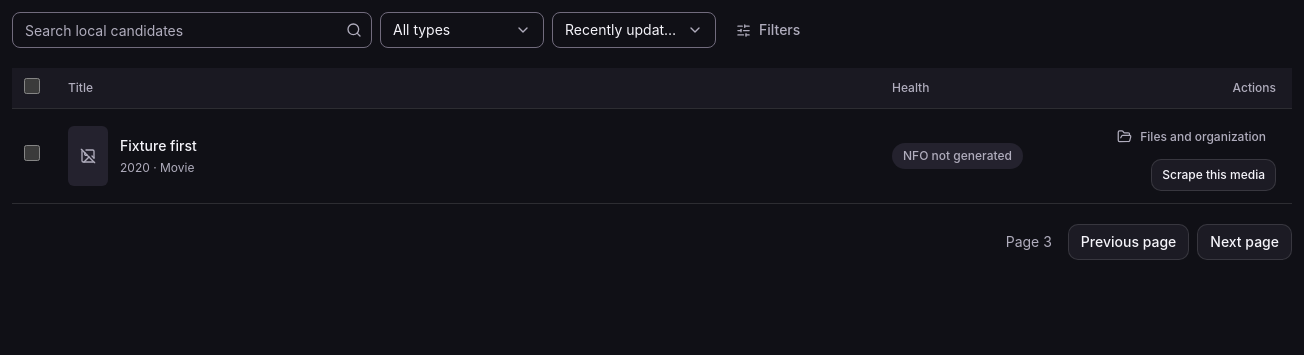
clears stale page and batch selection when the Sort filter changes
Step 1. Click the checkbox named "Select for scraping: Fixture first" → x=32, y=153, box x1=24 y1=145 x2=40 y2=161
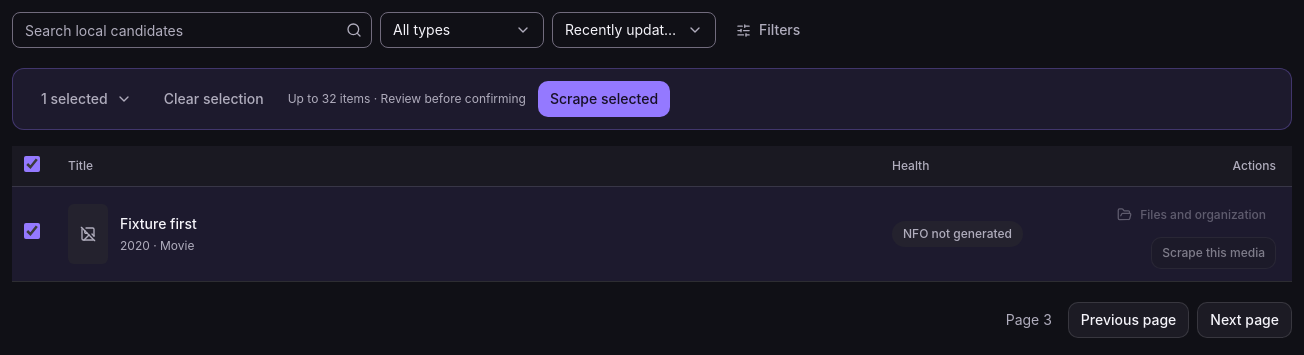
Step 2. Click the dropdown named "Sort" → x=634, y=30, box x1=552 y1=12 x2=716 y2=48
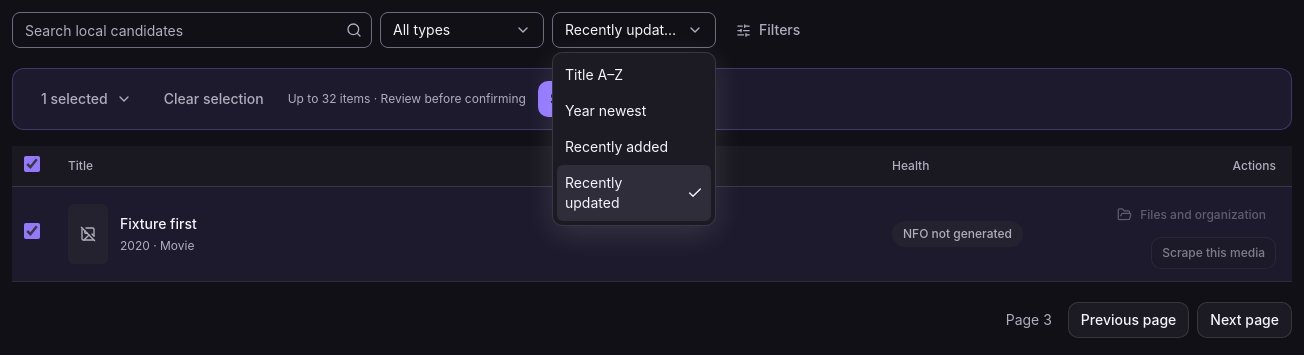
Step 3. Click the option "Recently added" → x=634, y=147, box x1=557 y1=129 x2=711 y2=165
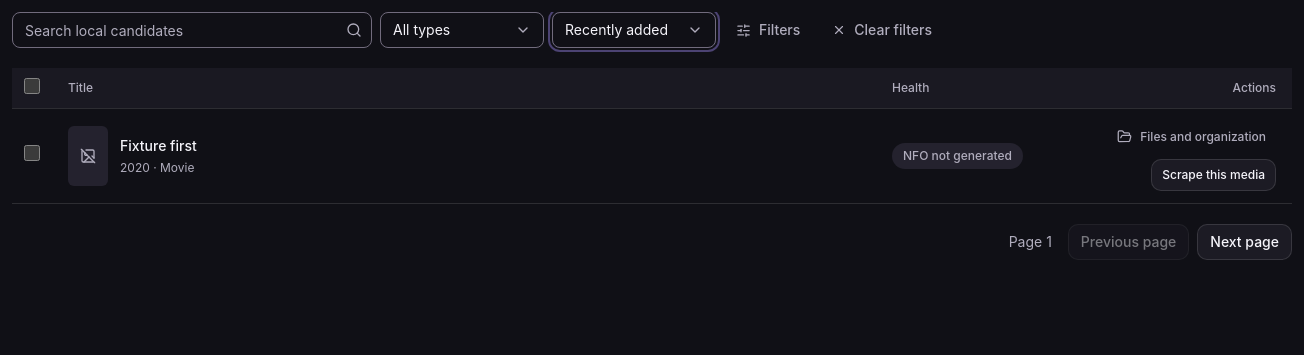
Expected: the text "Page 1" is shown, x1=1009 y1=232 x2=1052 y2=252
Expected: the button "Scrape selected" is gone
